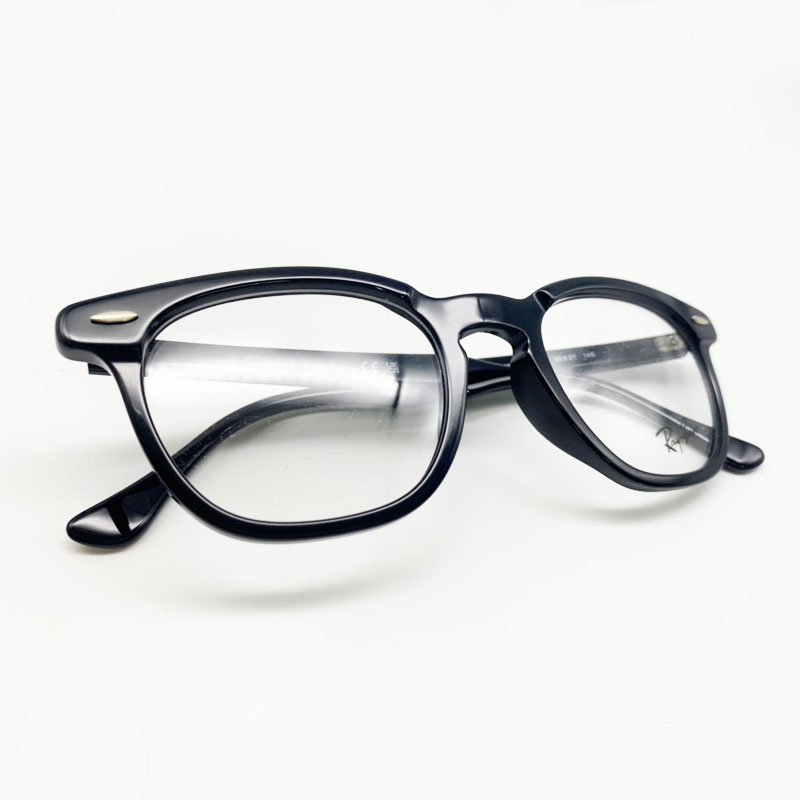glass: (40, 247, 769, 554)
